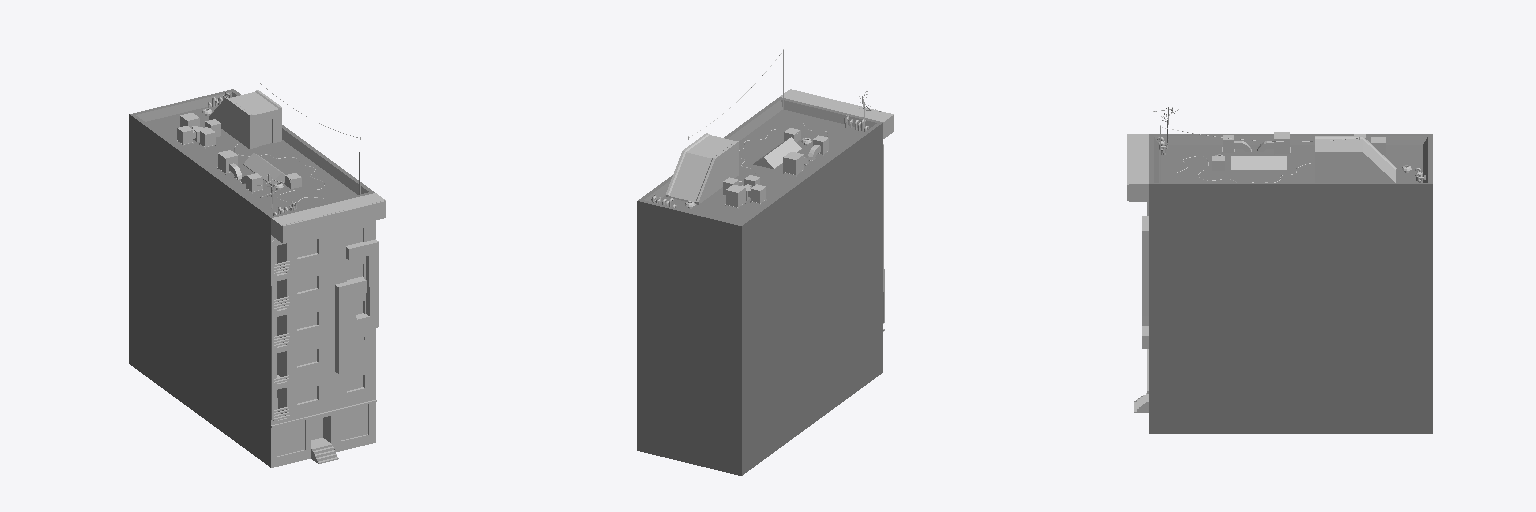
File: Building.obj
The picture shows the model from 3 angles: view 1: azimuth 30°, elevation 25°; view 2: azimuth 150°, elevation 25°; view 3: azimuth 270°, elevation 25°; orthographic projection.
Visible parts, largest first — view 1: Building00, Building04, Building11, Building03; view 2: Building00, Building04, Building11, Building03; view 3: Building00, Building04, Building03.
Boxes of the visible parts, <box> form: Building00: <box>129,89,385,467</box>; Building04: <box>209,90,281,148</box>; Building11: <box>177,113,220,148</box>; Building03: <box>243,153,284,184</box>; Building00: <box>637,89,893,475</box>; Building04: <box>666,133,738,204</box>; Building11: <box>723,175,766,208</box>; Building03: <box>753,137,801,168</box>; Building00: <box>1127,134,1432,433</box>; Building04: <box>1315,136,1396,182</box>; Building03: <box>1231,156,1286,169</box>.
Size of the model in its own units: 244 by 655 by 597.